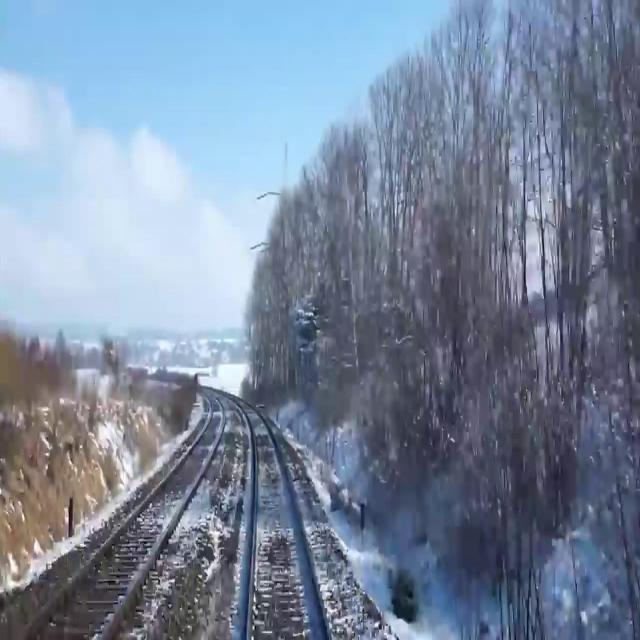rail-track: (23, 393, 222, 639), (243, 405, 324, 639)
